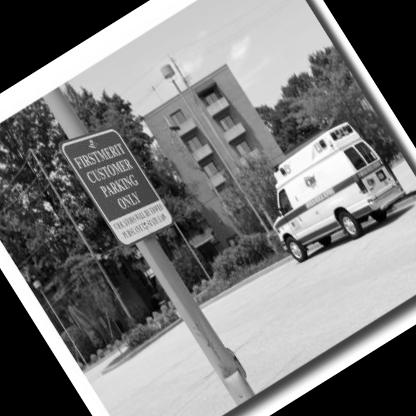ambulance: (221, 104, 416, 295)
